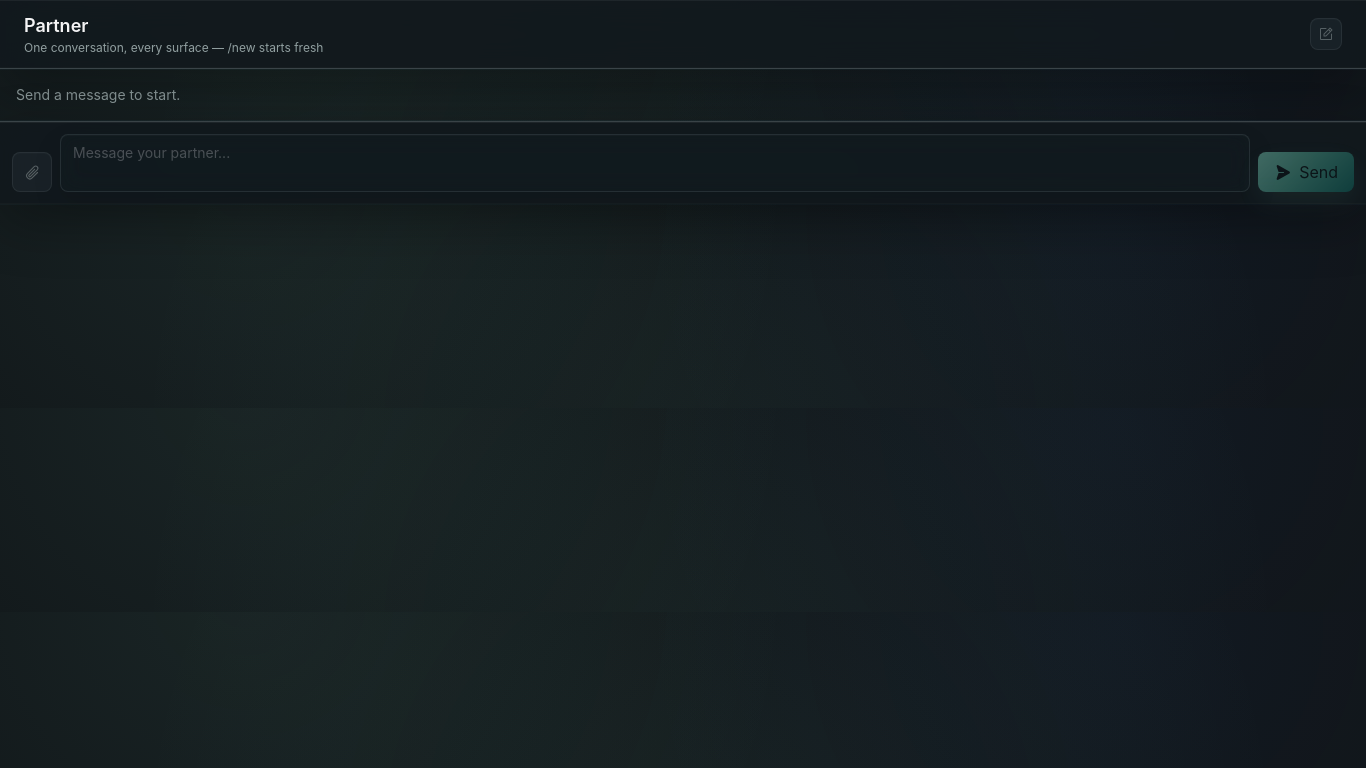
Test case: AssistantView › keeps the UI alive and un-wedges the composer when the stream request throws (WebKit "Load failed")
Type "first try" into the text box with placeholder "Message your partner..." at (655, 163), box [60,134,1250,192]
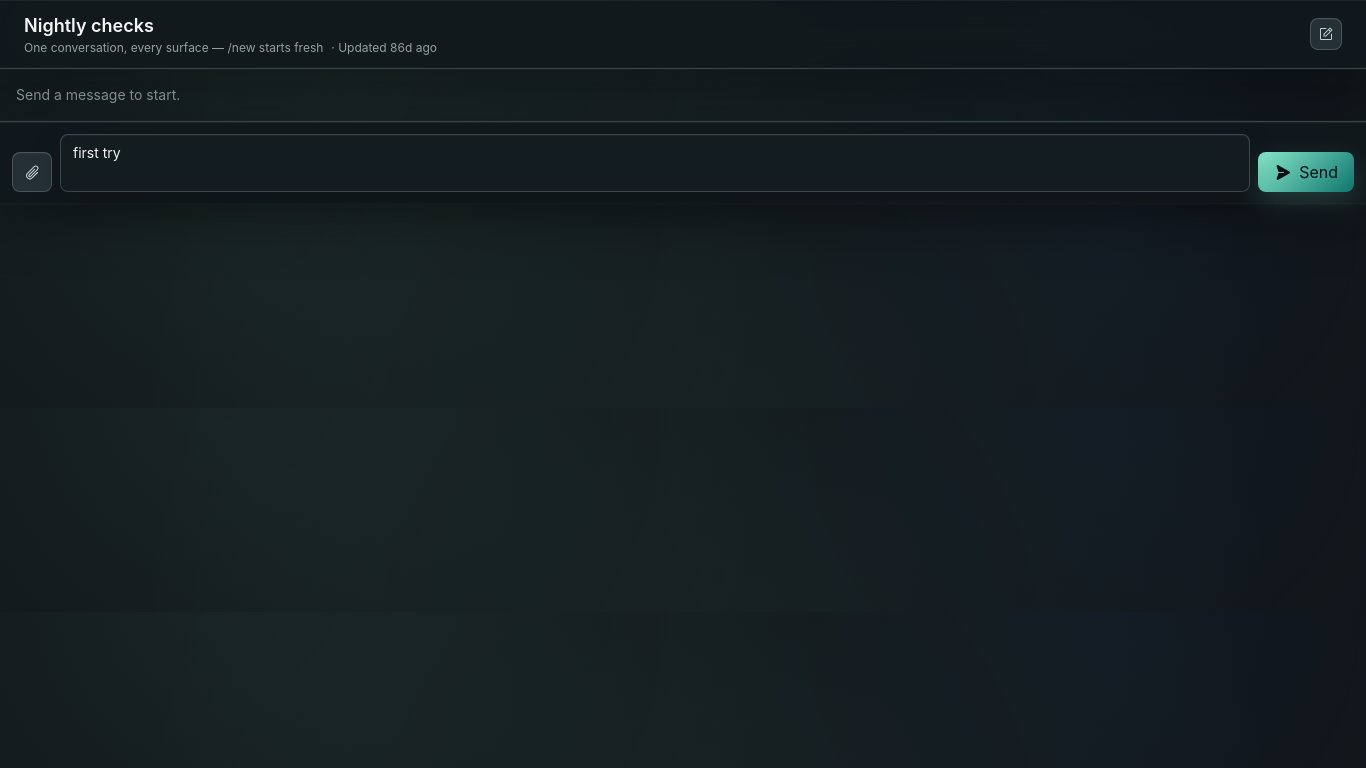
Click the button "Send" at (1306, 172), box [1258,152,1354,192]
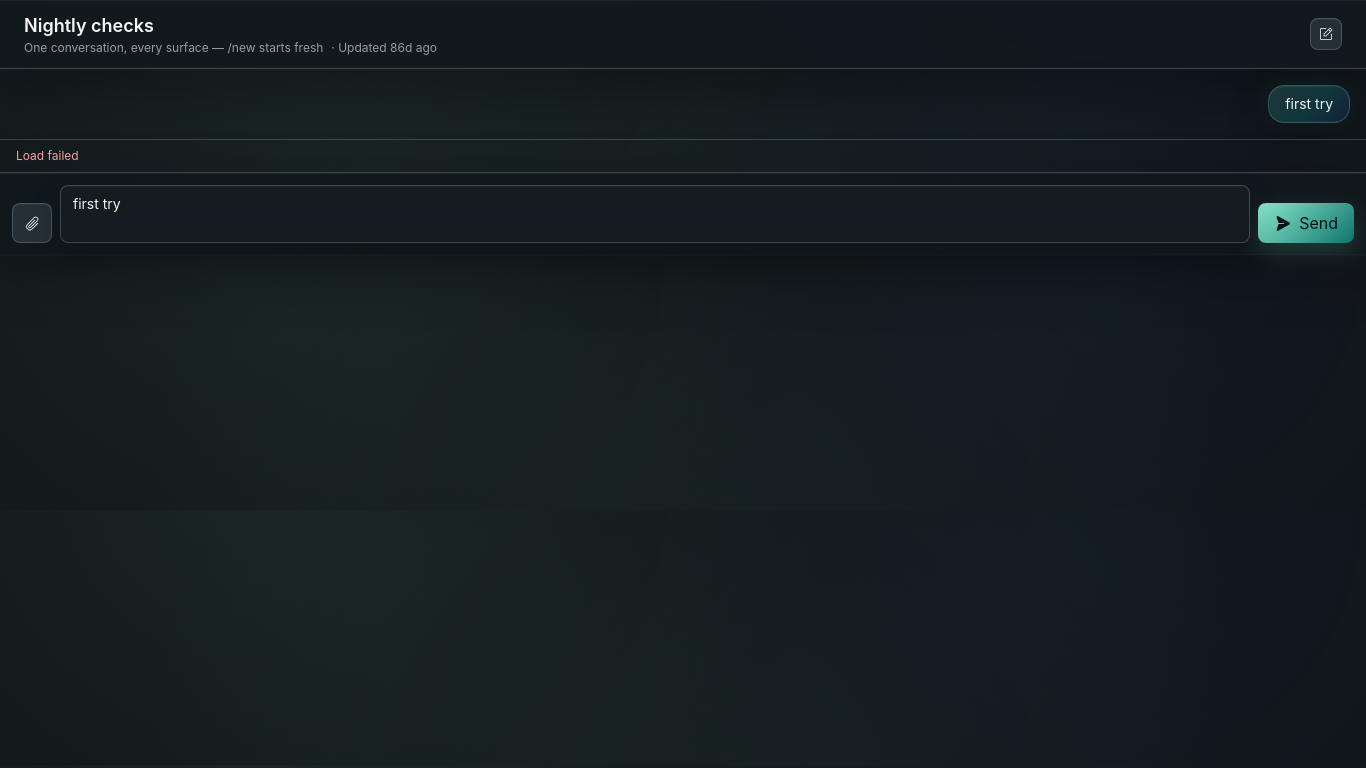
Expected: the text "first try" is shown, [1285,94,1333,114]
Expected: the text "Load failed" is shown, [0,139,1365,172]
// The stuck-sendingRef regression: a second send must not be silently blocked.
Replace the text in the text box with placeholder "Message your partner..." with "second try" at (655, 214), box [60,185,1250,243]
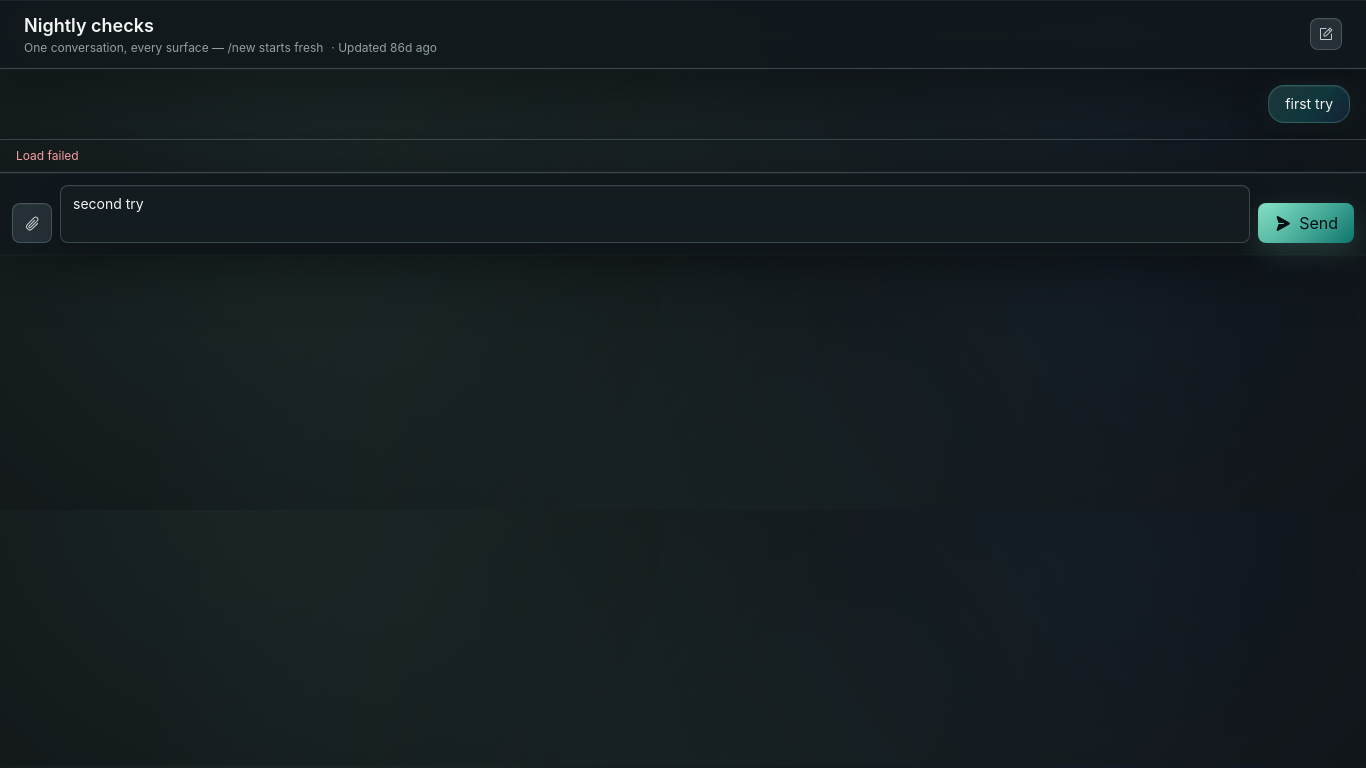
Click the button "Send" at (1306, 223), box [1258,203,1354,243]
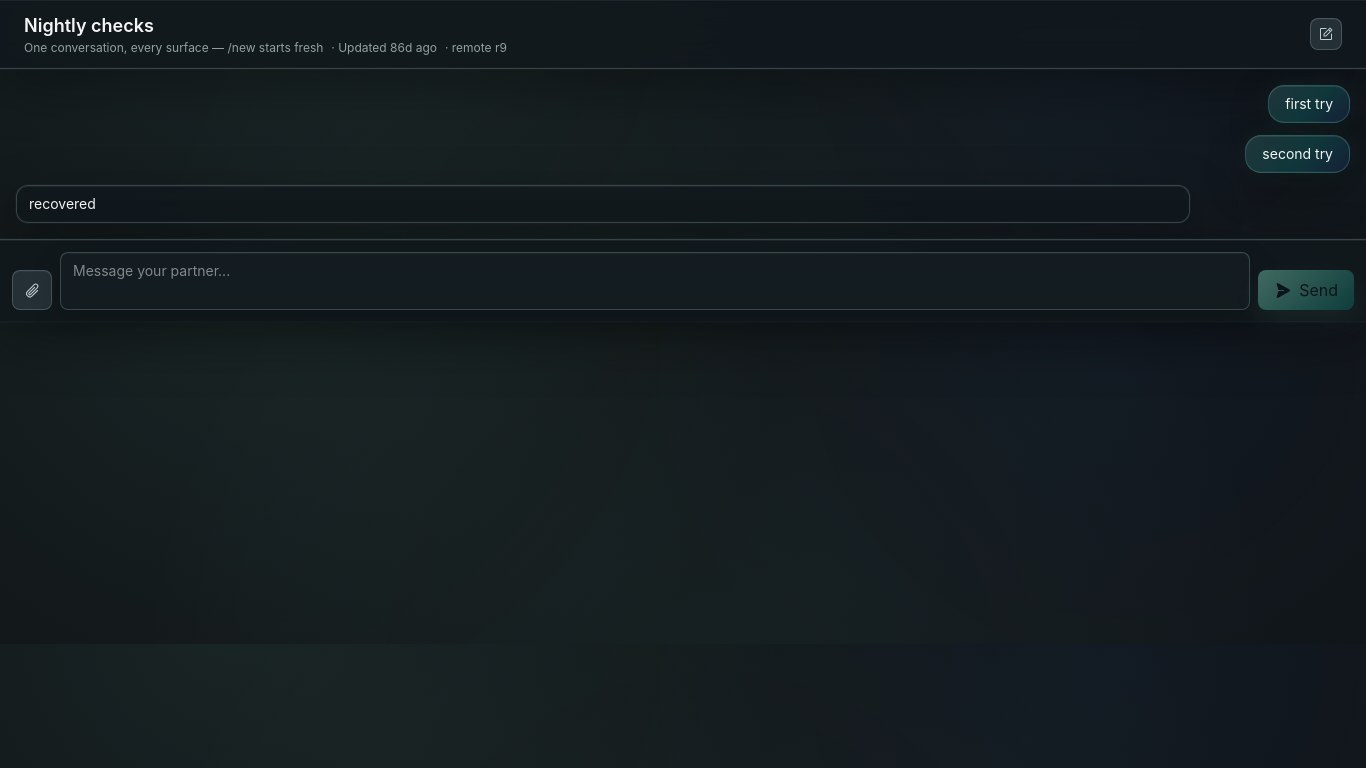
Expected: the text "recovered" is shown, [29,195,96,212]
